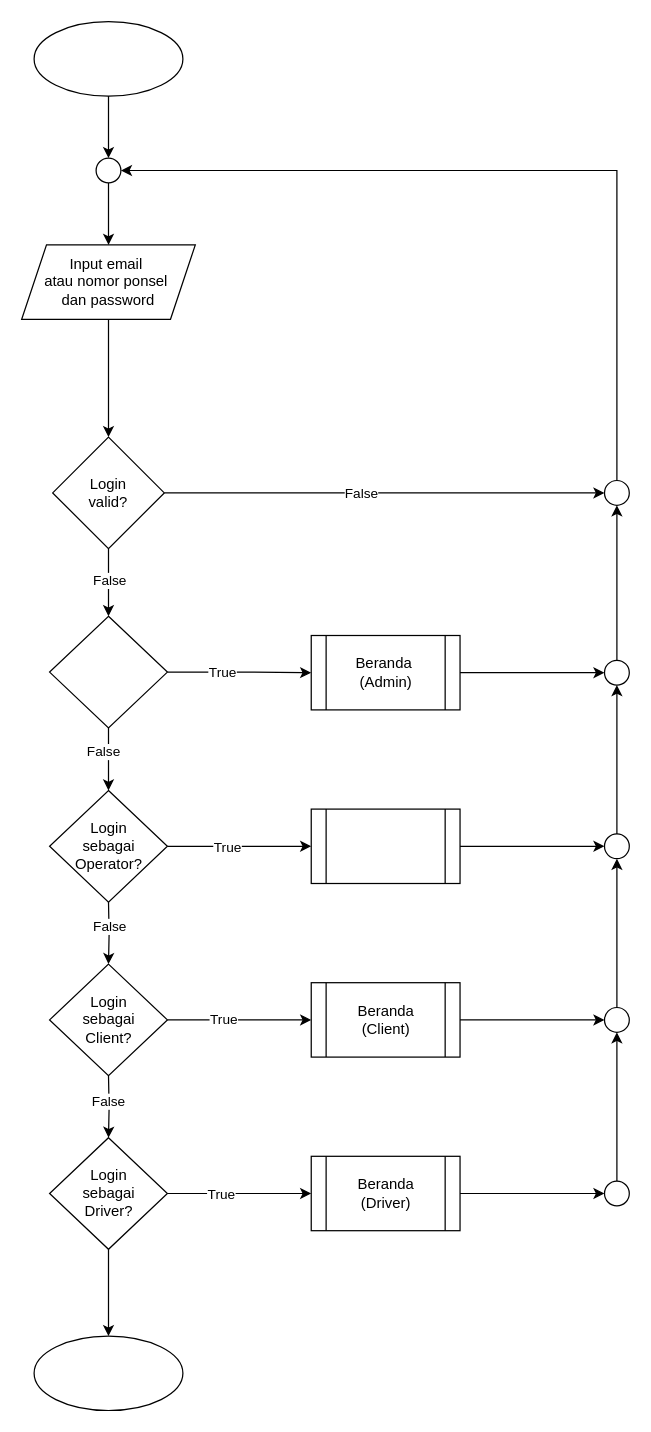
Image size: 651x1432. Some labels were removed from this diagram. The centre of each missing label's shape, as x and y in pixels:
"Beranda (Operator)" goes at (x=385, y=846).
"Login sebagai Admin?" goes at (x=107, y=671).
"Mulai" goes at (x=108, y=58).
"Selesai" goes at (x=108, y=1372).
